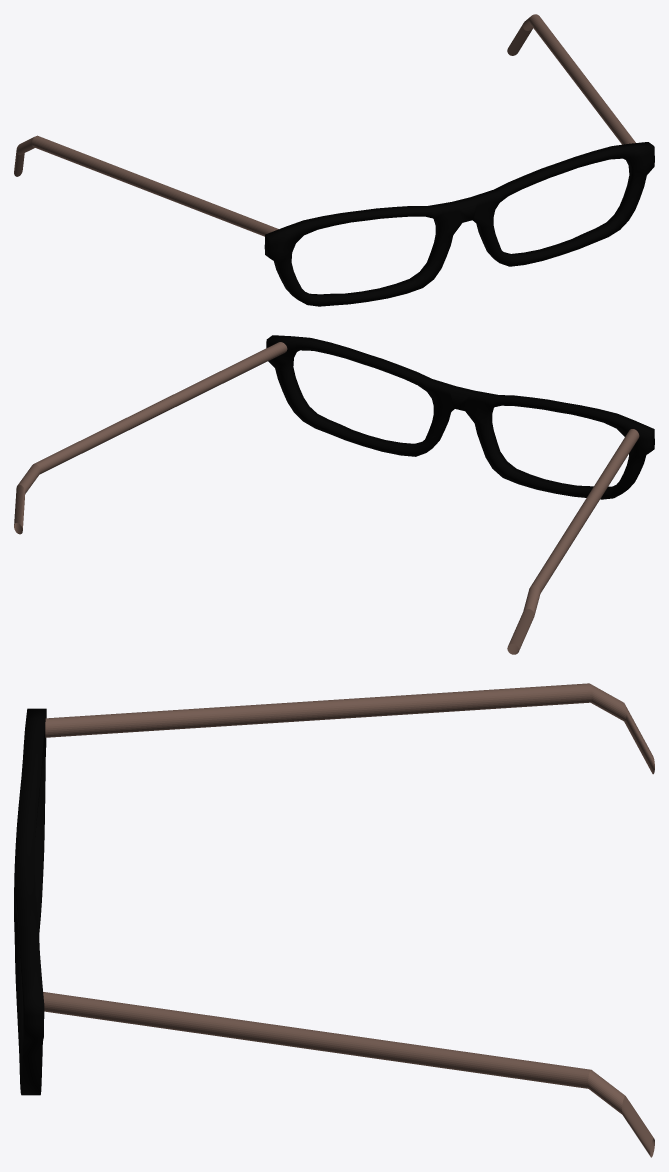
Rendered from Dave_Brille3.fbx.
3 views of the same model, one above another, from view 1: azimuth 30°, elevation 25°; view 2: azimuth 150°, elevation 25°; view 3: azimuth 270°, elevation 25° (orthographic). The views are drawn at different scales.
Parts seen in each view (by area): view 1: Brille3, Brillen-gestell; view 2: Brille3, Brillen-gestell; view 3: Brillen-gestell, Brille3.
Boxes of the visible parts, x1,y1,x2,y2 form: Brille3: (264, 142, 654, 306); Brillen-gestell: (14, 14, 635, 236); Brille3: (266, 335, 654, 499); Brillen-gestell: (14, 342, 639, 654); Brillen-gestell: (43, 683, 654, 1157); Brille3: (14, 708, 46, 1095).
Bounding box in the file's own units: 215 × 36.26 × 145.
